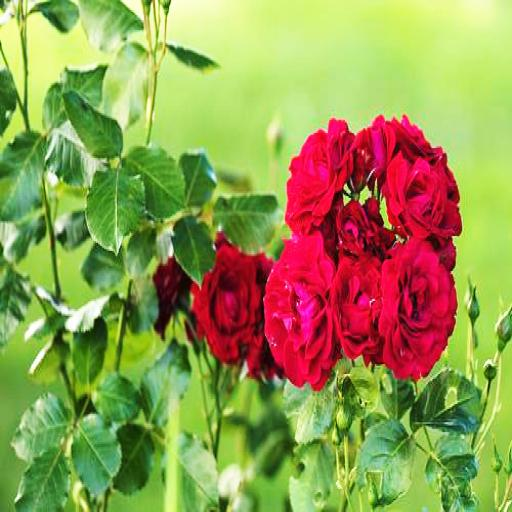rose: (262, 234, 341, 384), (380, 232, 457, 376), (285, 116, 355, 231), (196, 246, 256, 366), (385, 148, 462, 238), (333, 254, 387, 366), (334, 198, 389, 254)
